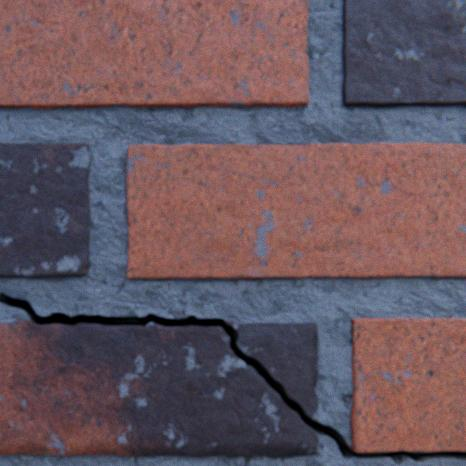brick: (127, 143, 465, 279), (0, 0, 308, 109), (350, 318, 465, 451), (341, 0, 465, 107), (0, 143, 90, 278)
broken_brick: (0, 320, 316, 456), (224, 321, 317, 420)
crack: (0, 292, 465, 464)
